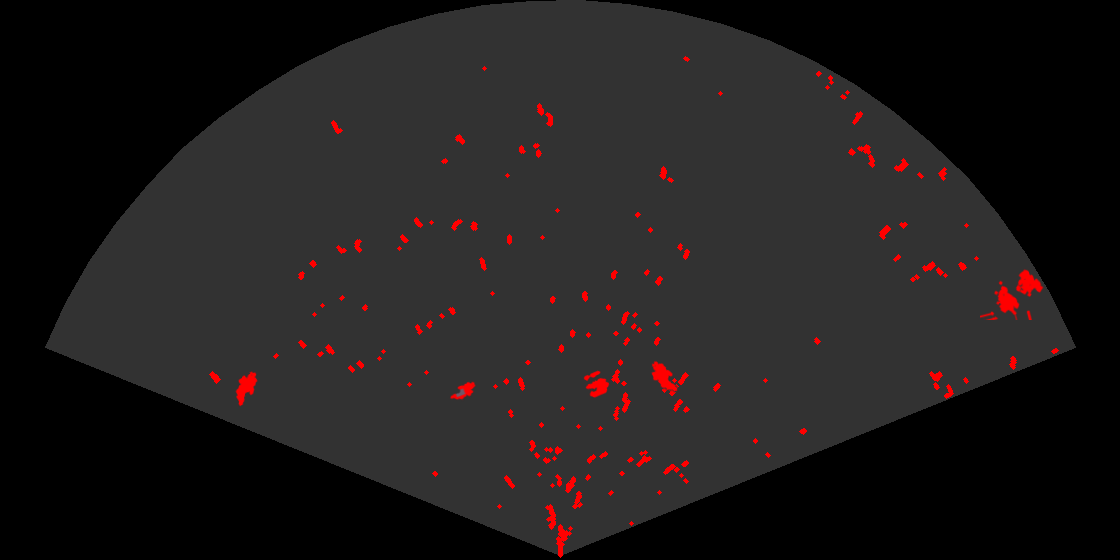AUV: (650, 359, 679, 393), (234, 370, 259, 408), (449, 380, 477, 402)
ball: (582, 369, 611, 399)
cage: (980, 267, 1045, 320)
